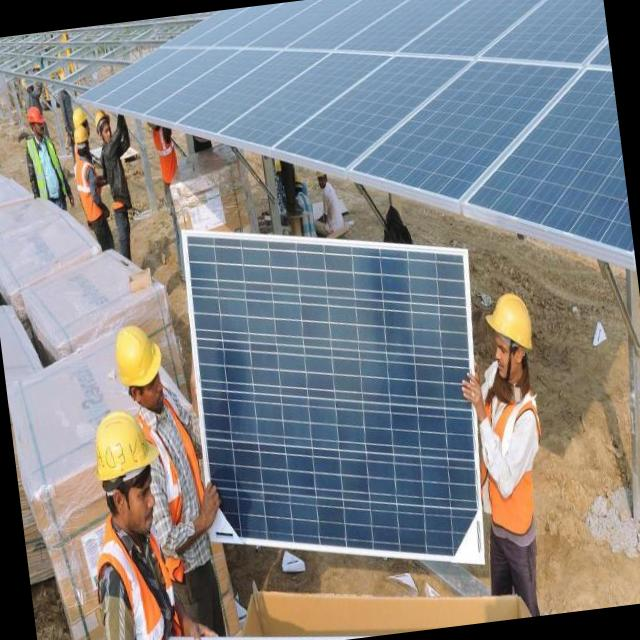no faulty: (191, 242, 481, 552), (471, 64, 627, 245), (363, 63, 564, 196), (283, 57, 459, 163), (224, 52, 386, 145), (181, 51, 324, 132), (148, 49, 278, 120), (126, 49, 235, 111), (99, 50, 200, 106), (82, 48, 173, 101)
